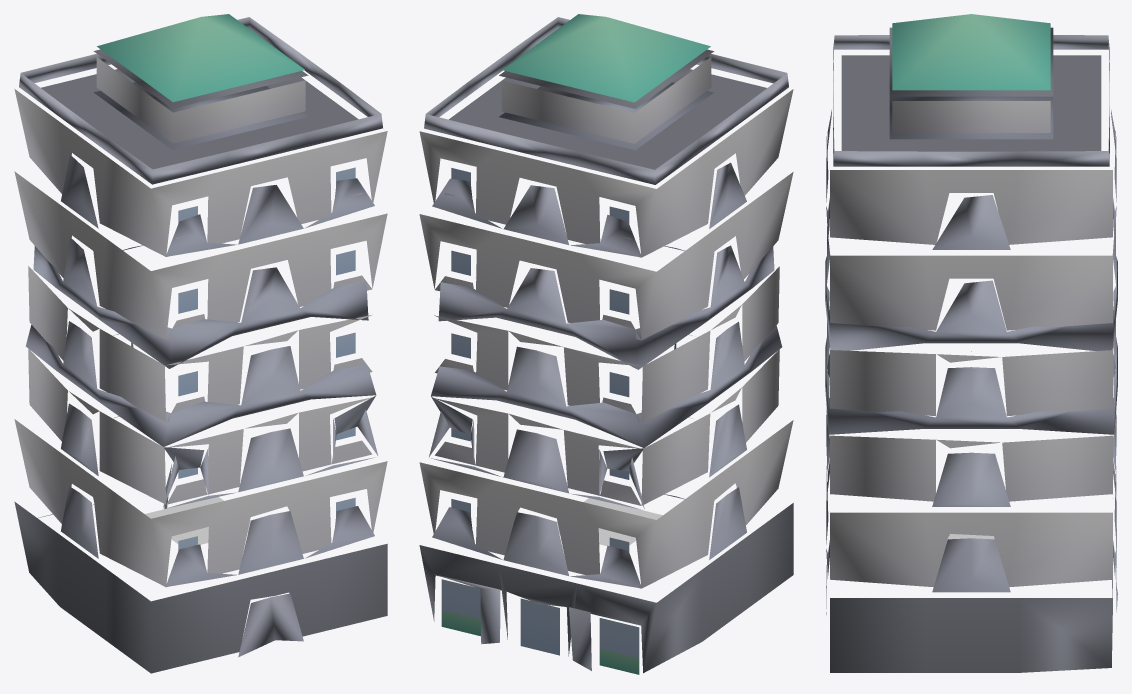
3 views of the same model, side by side, from view 1: azimuth 30°, elevation 25°; view 2: azimuth 150°, elevation 25°; view 3: azimuth 270°, elevation 25° (orthographic). The views are drawn at different scales.
Size of the model in its own units: 9.92 by 22.8 by 9.92.
